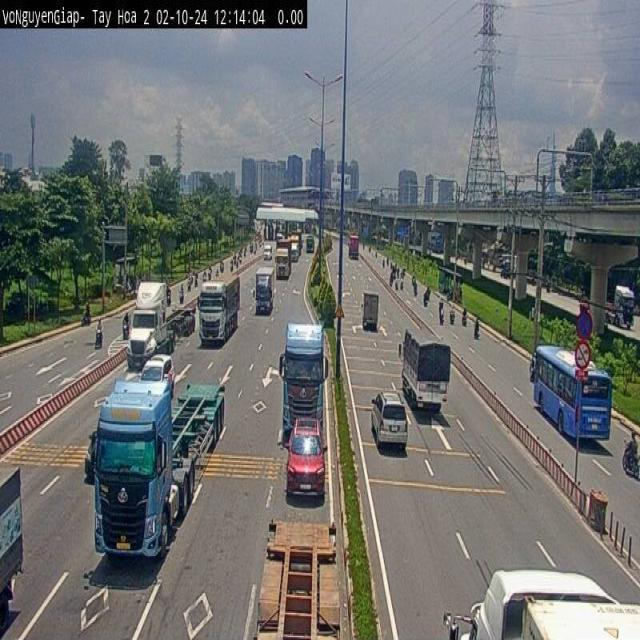bus: (536, 336, 613, 434)
car: (289, 422, 328, 506), (372, 394, 410, 453)
container-truck: (97, 378, 228, 559), (454, 560, 640, 640), (258, 517, 339, 640), (286, 319, 328, 428), (132, 280, 164, 366)
motorcycle: (623, 448, 639, 480), (95, 328, 103, 350), (123, 323, 130, 340), (82, 313, 91, 323)
person: (631, 430, 639, 455), (97, 315, 103, 335), (86, 299, 90, 316), (125, 313, 129, 325)
truck: (0, 462, 27, 630), (403, 329, 451, 410), (201, 281, 238, 343), (256, 263, 274, 317), (274, 240, 293, 282), (364, 289, 379, 327), (349, 232, 360, 262), (263, 242, 274, 260)
